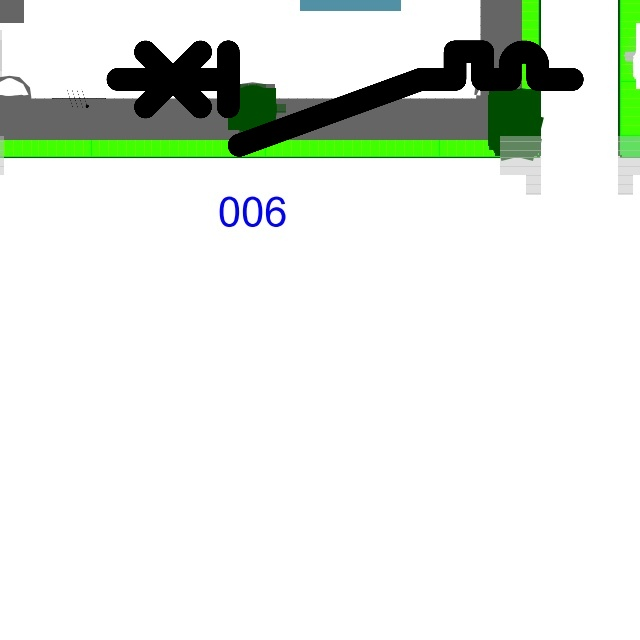interruptor_termomagnetico: (106, 40, 584, 157)
